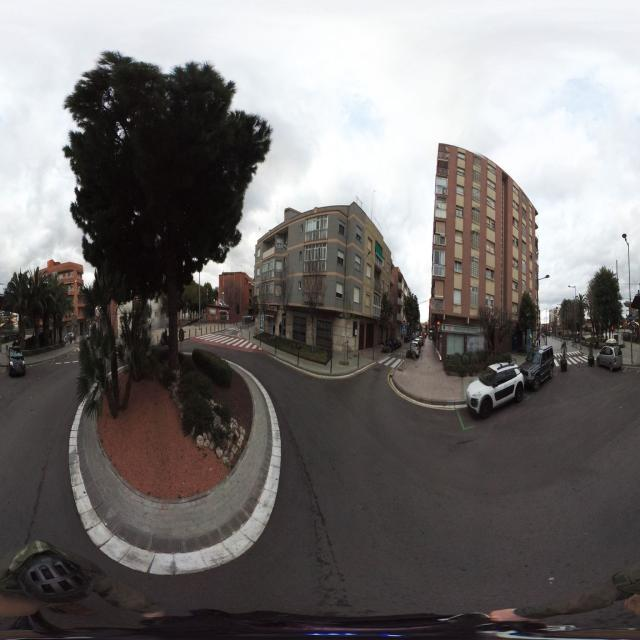forb_stopping: (629, 323, 632, 330)
